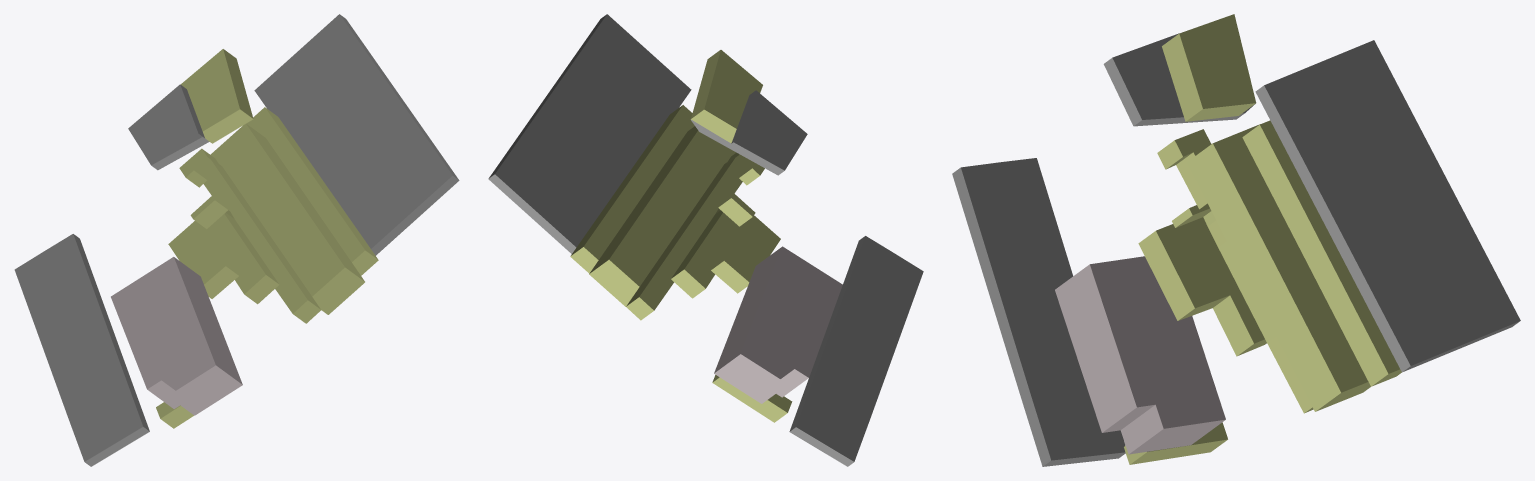
The picture shows the model from 3 angles, left to right: view 1: azimuth 30°, elevation 25°; view 2: azimuth 150°, elevation 25°; view 3: azimuth 330°, elevation 25°; orthographic projection. The views are drawn at different scales.
Parts seen in each view (by area): view 1: 0_1_2_0_0_1_2_3; view 2: 0_1_2_0_0_1_2_3; view 3: 0_1_2_0_0_1_2_3.
Part boxes in pixels (left/top/right/bottom): 0_1_2_0_0_1_2_3: left=14, top=14, right=459, bottom=466; 0_1_2_0_0_1_2_3: left=488, top=14, right=923, bottom=466; 0_1_2_0_0_1_2_3: left=952, top=14, right=1520, bottom=466.
Bounding box in the file's own units: 112 × 95.13 × 12.
